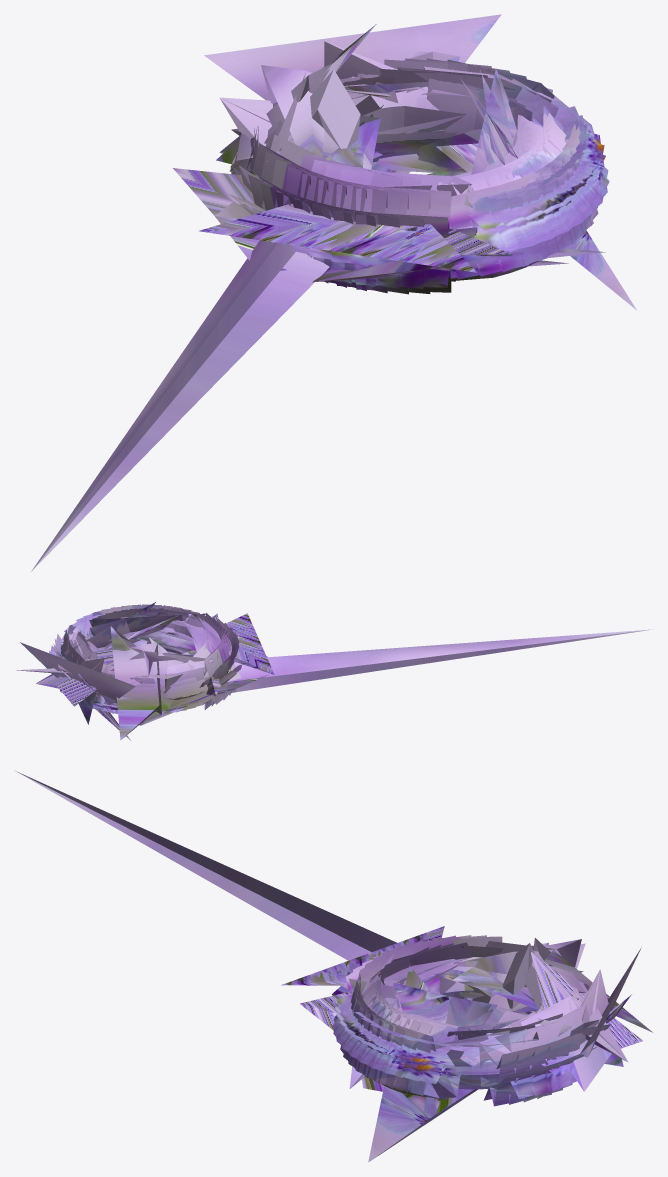
The model's file is flor9.gltf.
3 views of the same model, one above another, from view 1: azimuth 30°, elevation 25°; view 2: azimuth 150°, elevation 25°; view 3: azimuth 270°, elevation 25° (orthographic). The views are drawn at different scales.
Parts seen in each view (by area): view 1: Torus; view 2: Torus; view 3: Torus.
Part boxes in pixels (bbox=[...]): Torus: bbox=[31, 14, 636, 571]; Torus: bbox=[16, 602, 652, 740]; Torus: bbox=[16, 771, 652, 1162].
Size of the model in its own units: 7.33 by 1.83 by 6.4.
1 material, 1 textured.
